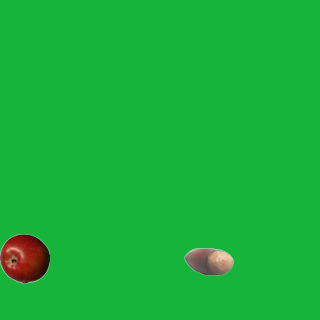Apple Braeburn: (0, 233, 49, 283)
Hazelnut: (183, 236, 233, 286)
